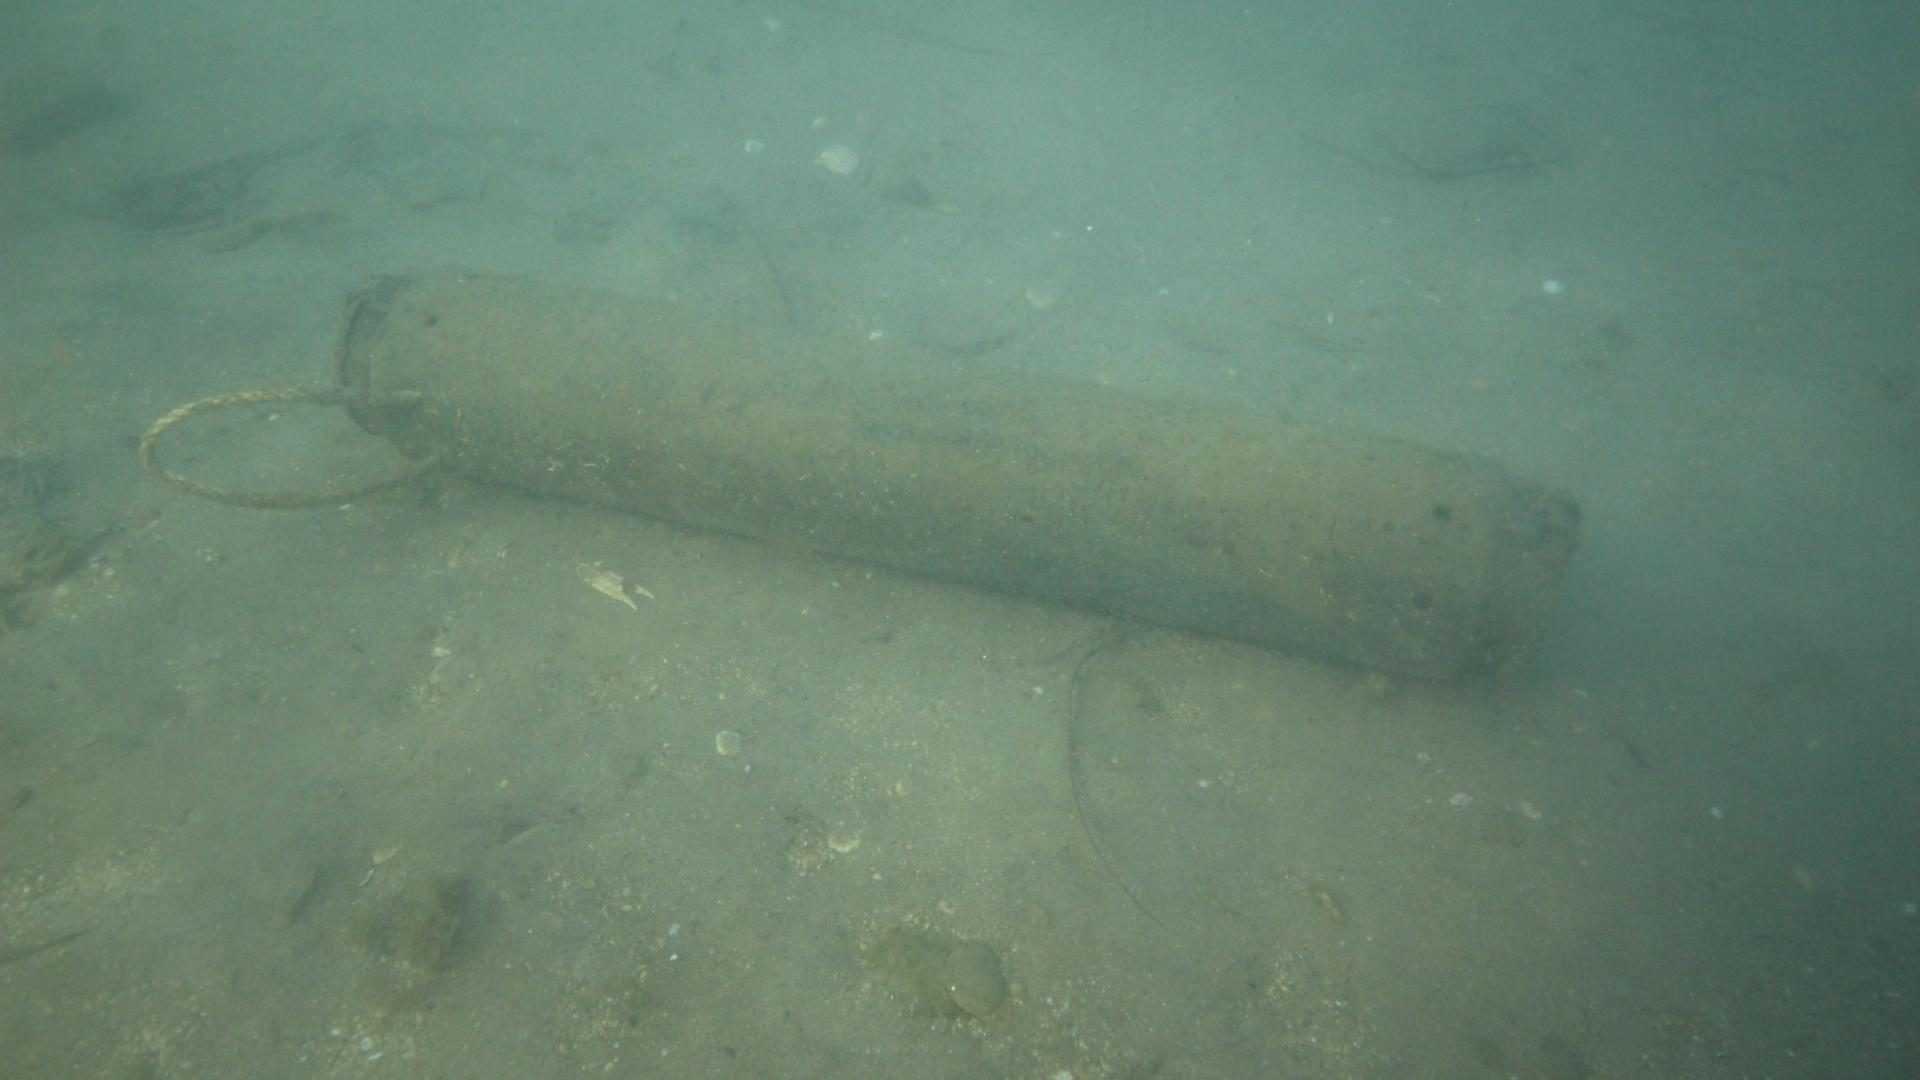eel fish trap: (323, 262, 1586, 684)
rope: (140, 385, 448, 506)
